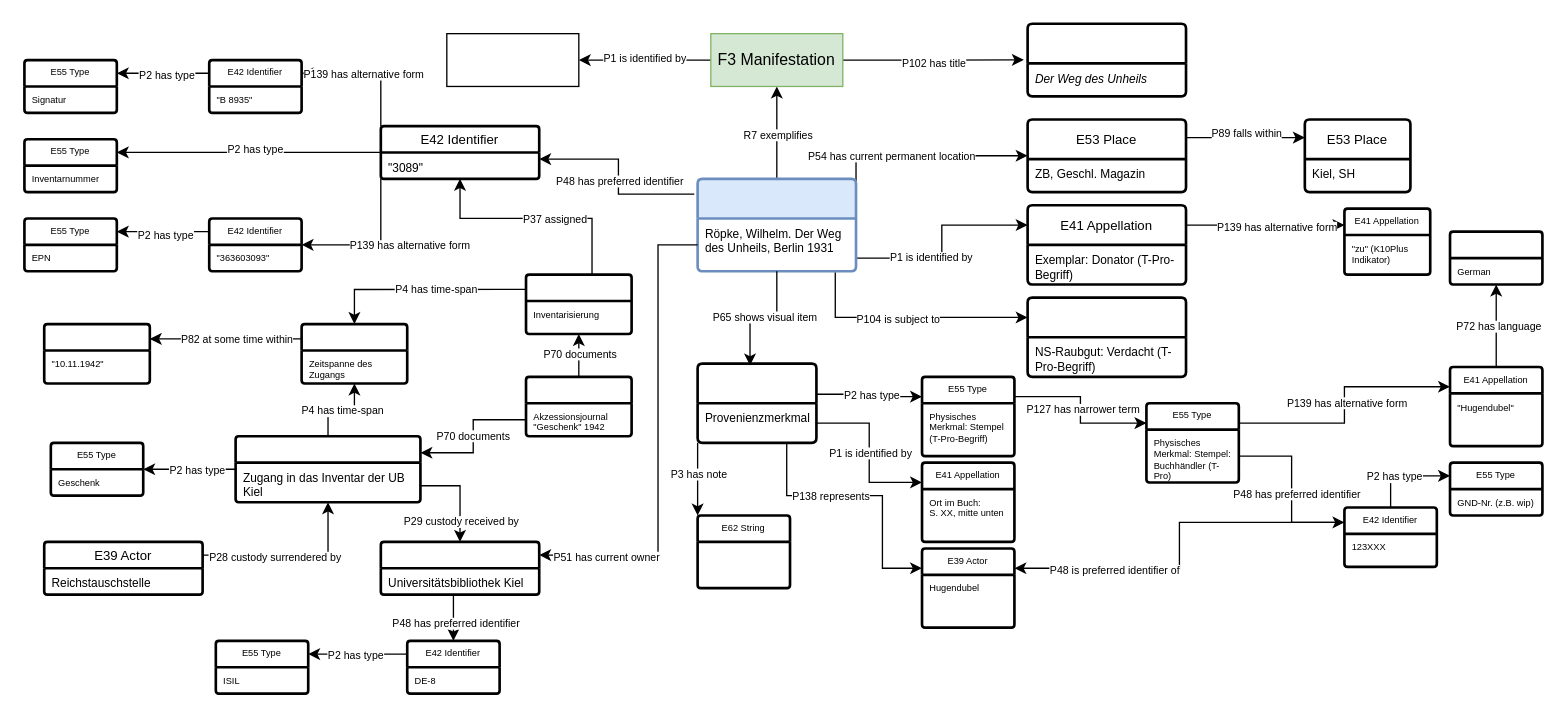
The diagram is 1566 pixels wide and 718 high, and some of its shapes have lost their labels. Each missing label, with the box of its shape:
E10 Transfer of Custody: (234, 434, 421, 503)
E15 Identifier Assignment: (524, 273, 632, 335)
E30 Right: (1026, 296, 1187, 378)
E31 Document: (524, 375, 632, 437)
E35 Title: (1026, 22, 1187, 97)
E37 Mark: (696, 362, 817, 444)
E42 PPN: (446, 32, 579, 86)
E52 Time span: (300, 322, 408, 384)
E56 Language: (1448, 230, 1543, 285)
E61 Time Primitive: (42, 322, 150, 384)
E74 Group: (379, 540, 540, 595)
F5 Exemplar: (696, 177, 857, 272)
